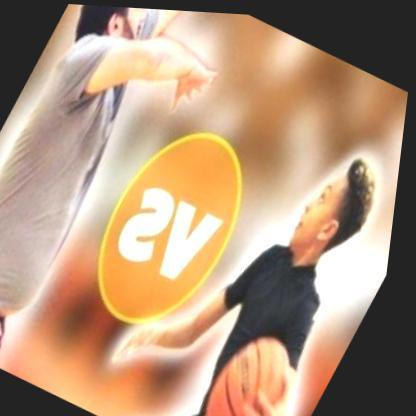basketball: (187, 315, 317, 416)
